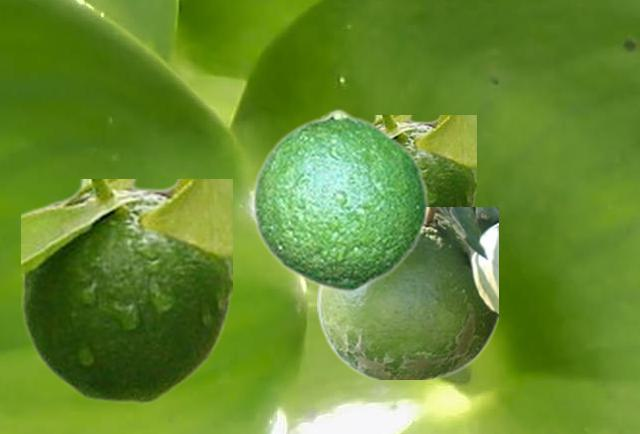dalandan: (21, 179, 231, 402), (250, 108, 428, 292), (317, 207, 497, 378), (372, 115, 475, 206)
